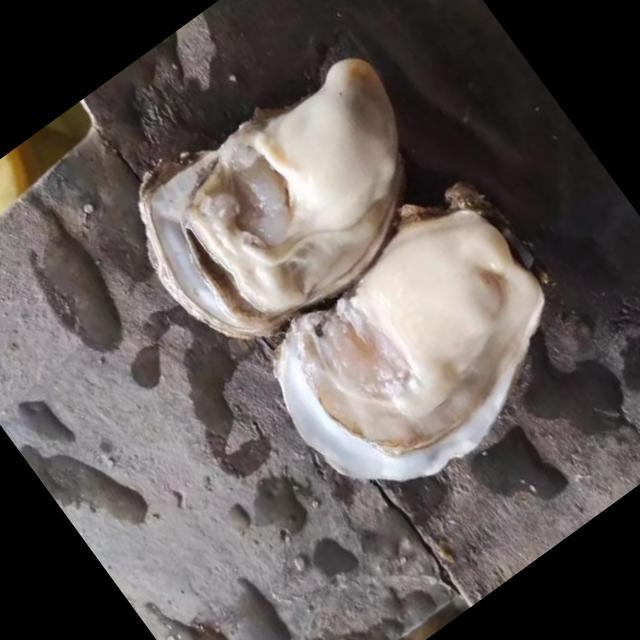Oyster-Open: (219, 171, 598, 538), (98, 17, 472, 374)
